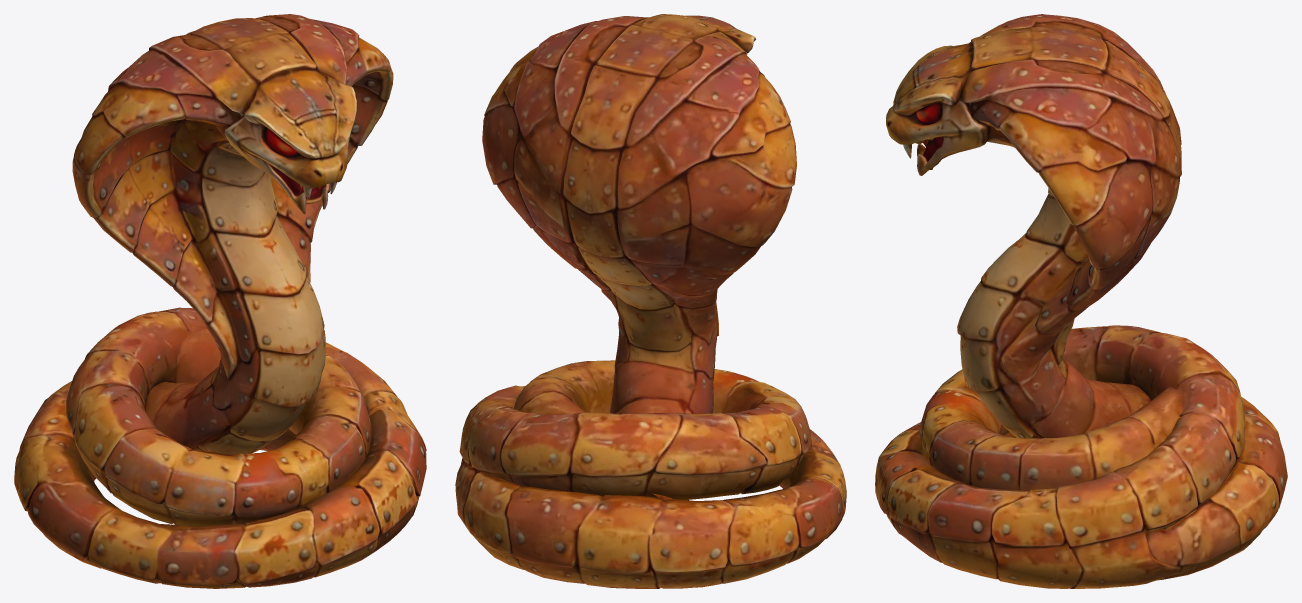
The model's file is yilan.glb.
The picture shows the model from 3 angles, left to right: view 1: azimuth 30°, elevation 25°; view 2: azimuth 150°, elevation 25°; view 3: azimuth 270°, elevation 25°; orthographic projection. The views are drawn at different scales.
Parts seen in each view (by area): view 1: geometry_0; view 2: geometry_0; view 3: geometry_0.
Boxes of the visible parts, <box> form: geometry_0: <box>14,14,426,588</box>; geometry_0: <box>455,14,846,588</box>; geometry_0: <box>875,14,1287,588</box>.
Size of the model in its own units: 0.729 by 0.9521 by 0.7451.
Materials: 1 (1 with a texture image).
